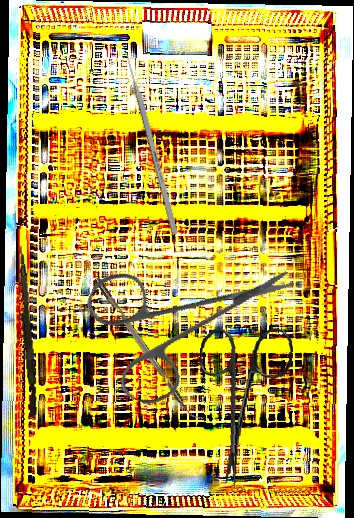Chopper: (93, 272, 205, 426)
Iris Scissors: (58, 202, 298, 440), (186, 321, 295, 493)
Pusher: (120, 41, 180, 236), (12, 244, 42, 417)
